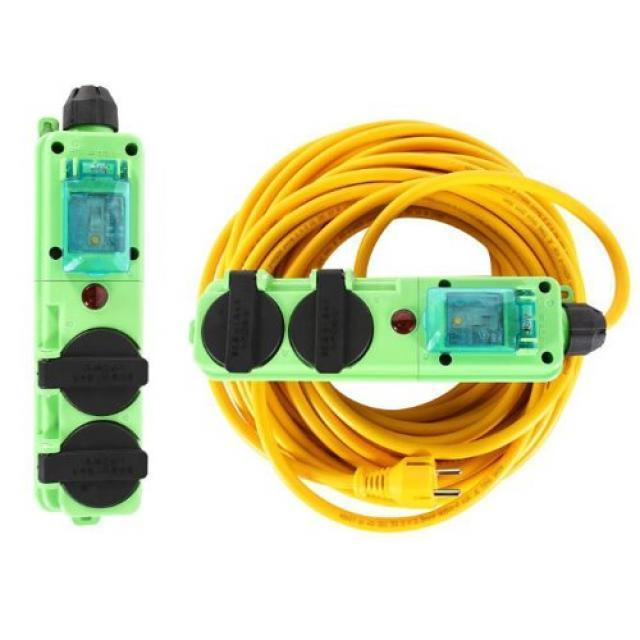typeb: (5, 72, 196, 559)
